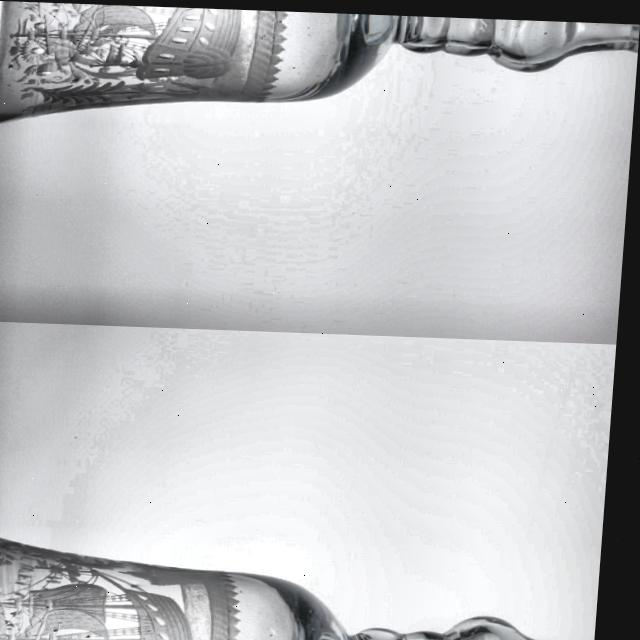glass: (0, 0, 640, 127), (0, 529, 604, 640)
